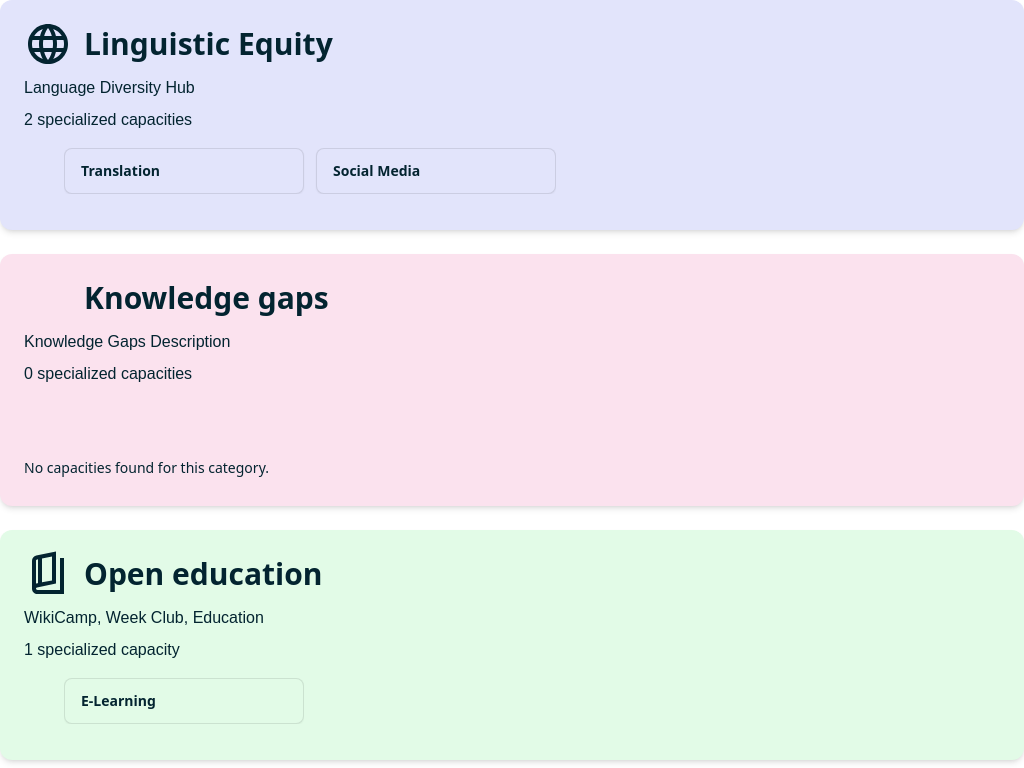
Test: CapacityCategories › desktop layout (isMobile: false) › closes info panel when close button is clicked
Step 1. Click the button "Translation" → (184, 171), box x1=64 y1=148 x2=304 y2=194
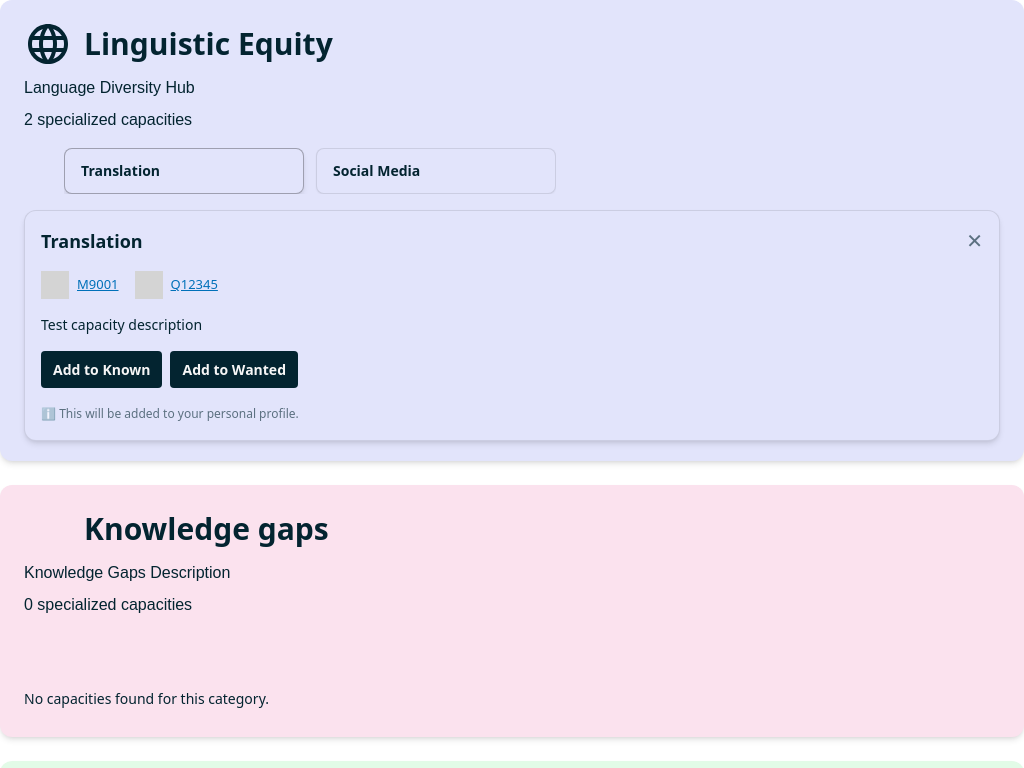
Result: the text "Add to Known" is shown at x1=53 y1=359 x2=150 y2=380
Step 2. Click the button named "Close" → (975, 241), box x1=966 y1=231 x2=983 y2=251
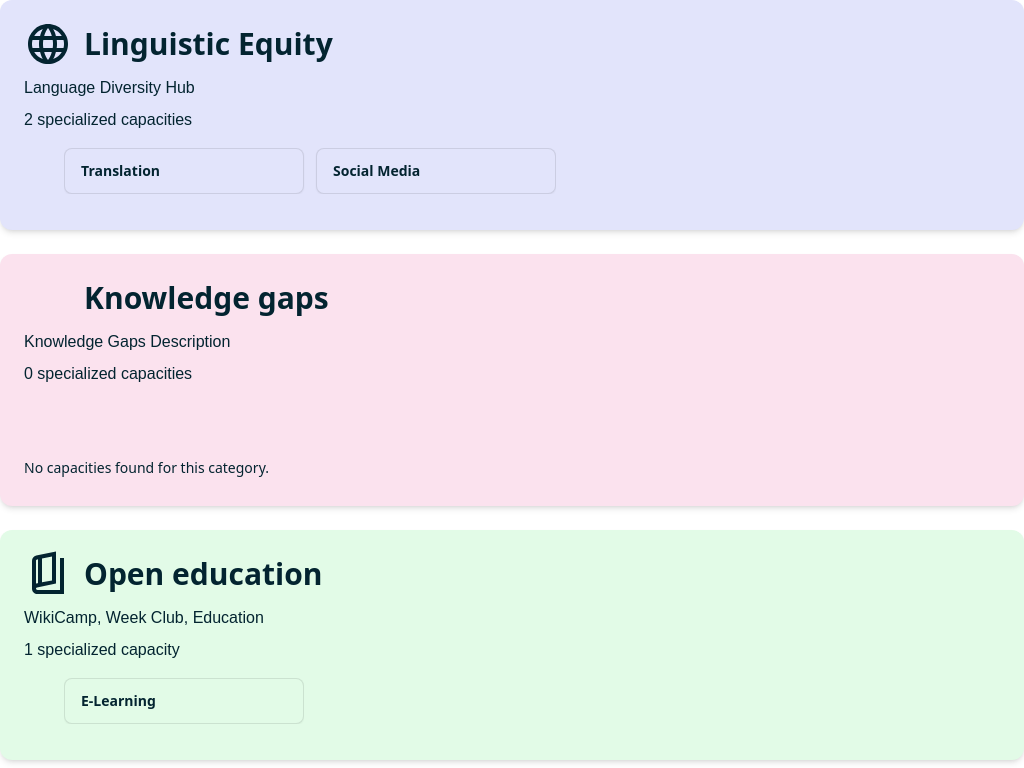
Result: the button "Add to Known" is gone
